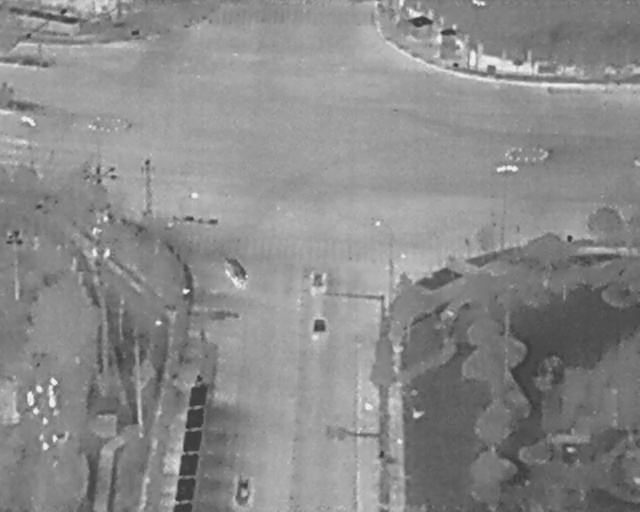Car: (217, 252, 254, 292), (232, 473, 254, 508), (307, 271, 329, 298), (310, 317, 329, 341)
